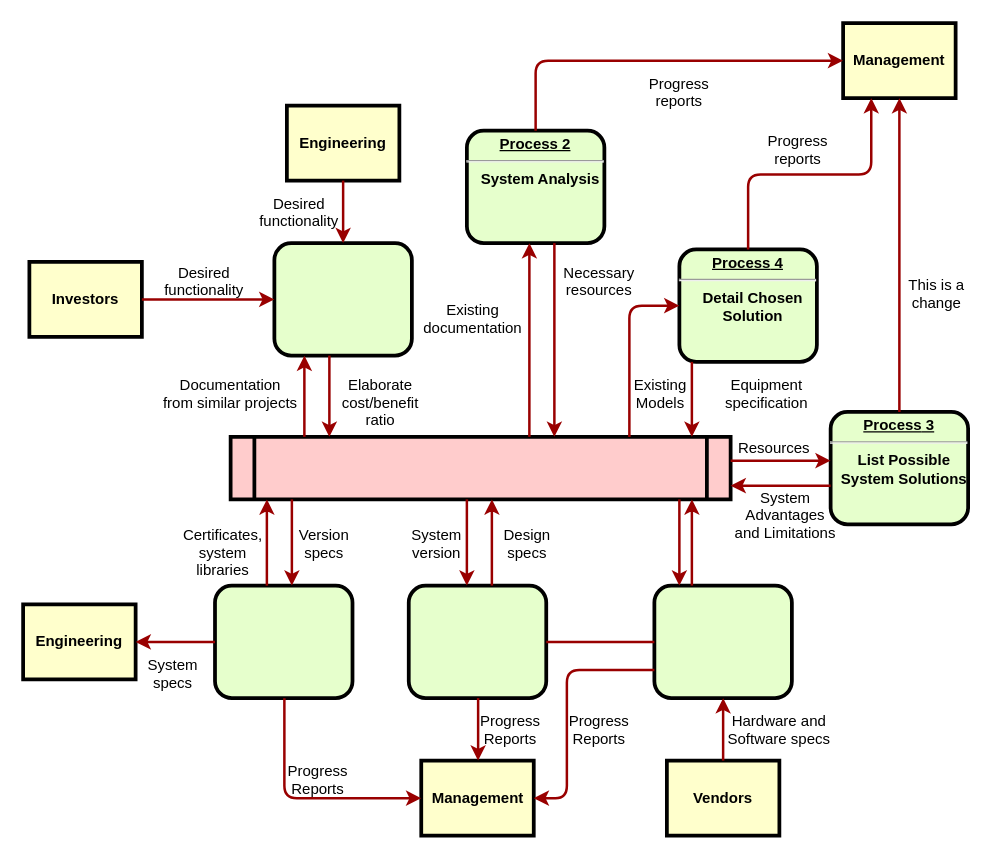
The diagram is 991 pixels wide and 859 high, and some of its shapes have lost their labels. The shapes that lost their labels are listed below. From the top down, each one's centre as x and y in pixels, then its label:
pixel 342 299: Process 1 System Study Preparation
pixel 480 467: ON-DEMAND SYSTEM DEVELOPMENT
pixel 283 641: Process 6 New System Construction
pixel 477 641: Process 7 New System Startup and Testing
pixel 722 641: Process 5 New System Design
